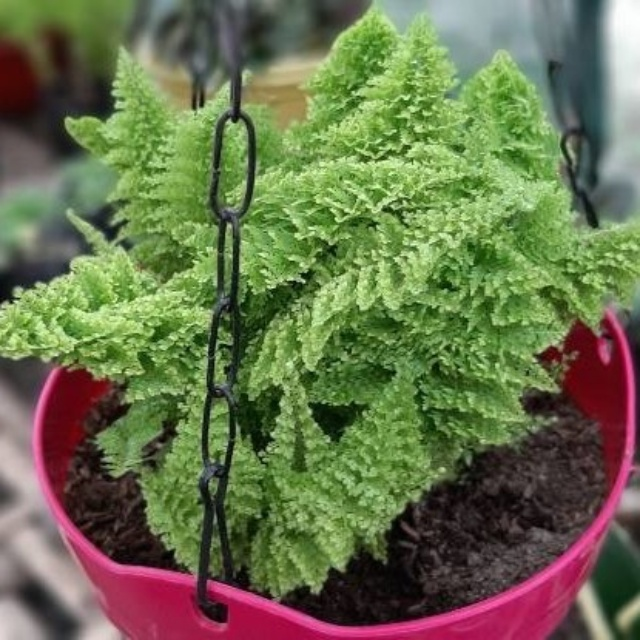obstacle: (49, 43, 620, 621)
